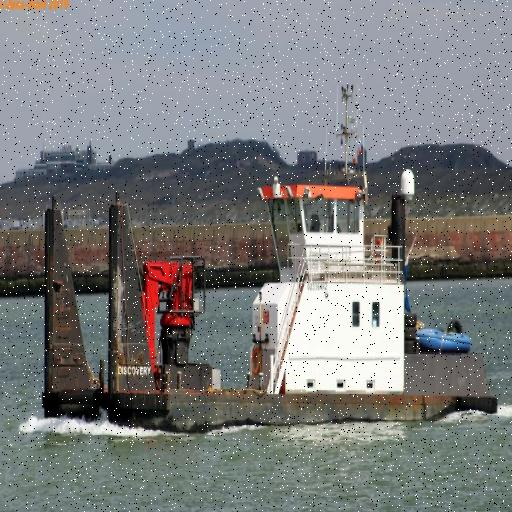tugboat: (41, 148, 504, 446)
